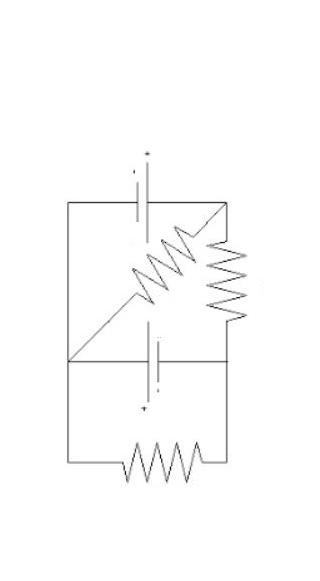resistor: (112, 206, 197, 309), (101, 429, 214, 492), (197, 218, 252, 334)
